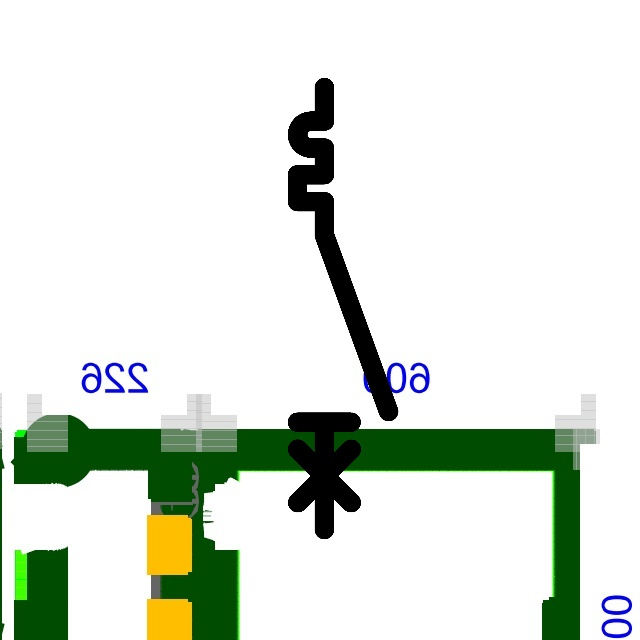interruptor_termomagnetico: (286, 76, 399, 540)
